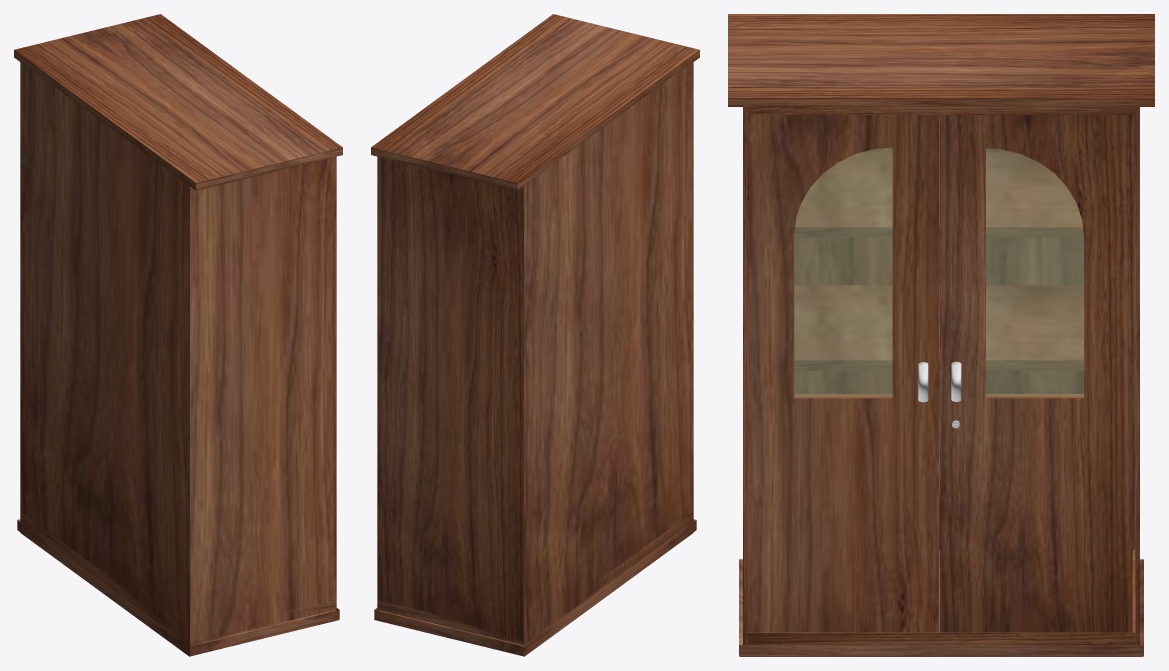
Rendered from uploads_files_2880331_wardrobe.gltf.
3 views of the same model, side by side, from view 1: azimuth 30°, elevation 25°; view 2: azimuth 150°, elevation 25°; view 3: azimuth 270°, elevation 25° (orthographic). The views are drawn at different scales.
Visible parts, largest first — view 1: Cube, Cube.004; view 2: Cube, Cube.004; view 3: Plane.002, Plane.001, Cube.004, Cube, Cube.001, Cube.002, Cube.003.
Part boxes in pixels (x1,y1,x2,y2): Cube: (17,61,339,656); Cube.004: (14,14,342,190); Cube: (374,61,696,656); Cube.004: (371,14,699,190); Plane.002: (940,115,1132,632); Plane.001: (747,115,938,632); Cube.004: (728,14,1154,106); Cube: (739,105,1143,656); Cube.001: (794,152,1083,503); Cube.002: (794,148,892,396); Cube.003: (986,149,1083,396).
Bounding box in the file's own units: 0.7537 × 2.14 × 1.48.
Materials: 4 (1 with a texture image).
